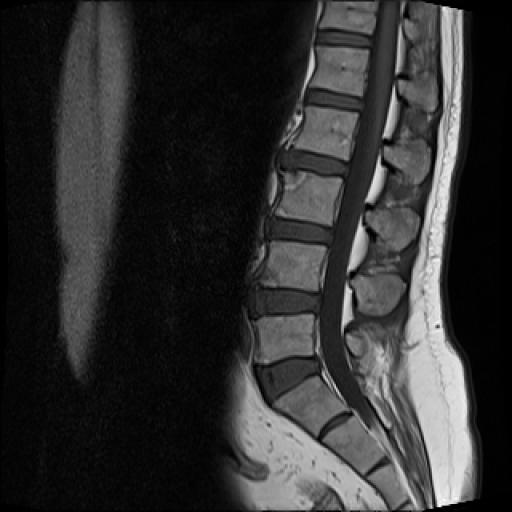L1: (310, 46, 370, 96)
L2: (295, 106, 358, 160)
L3: (276, 171, 342, 226)
L4: (260, 241, 327, 292)
L5: (255, 314, 314, 365)
S1: (273, 376, 345, 436)
